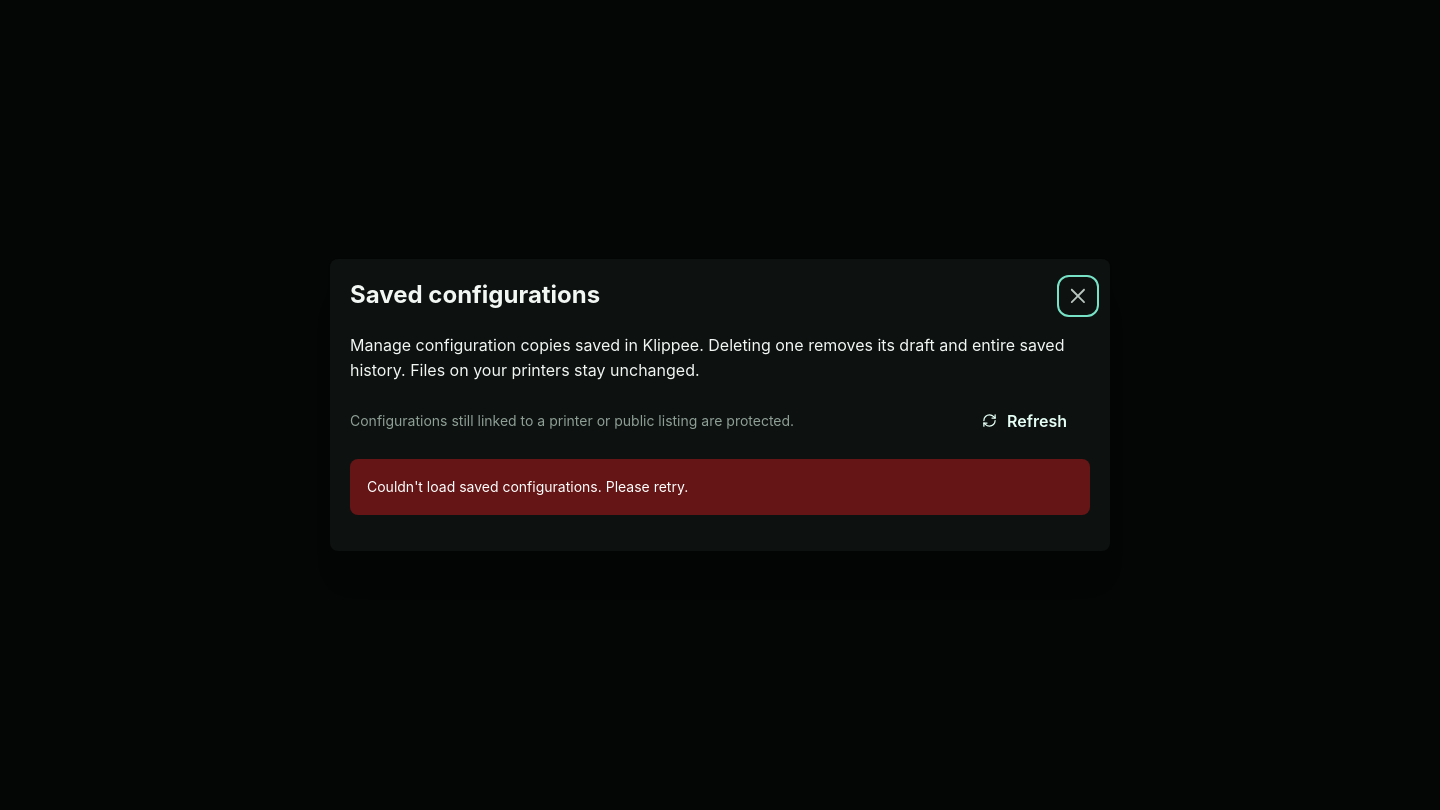
Scenario: saved configurations › allows retry after a failed list request
expect the message shows "Couldn't load saved configurations": met, box 367,478 -> 688,495
Click the button "Refresh" at [1028, 421], box 966,399 -> 1090,443
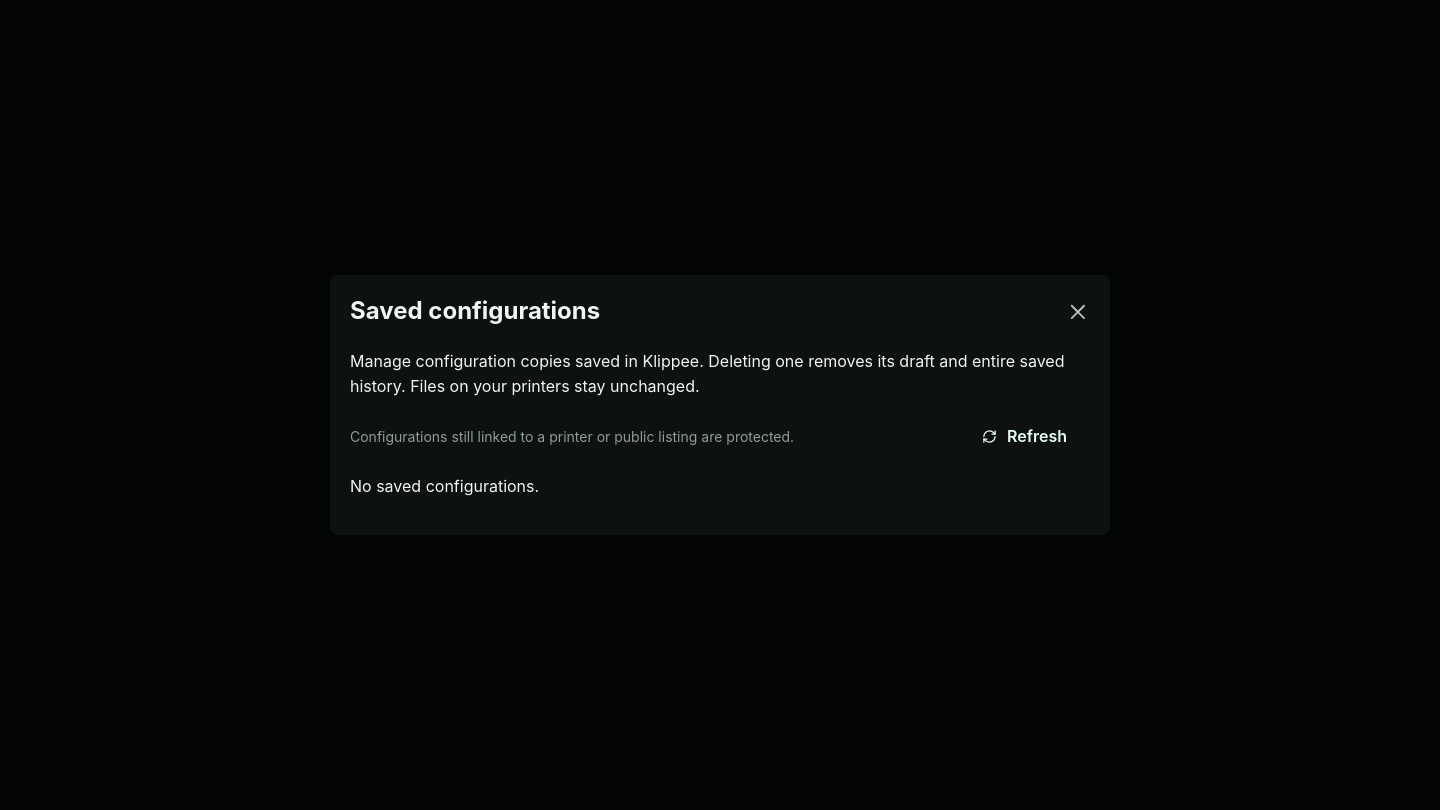
expect the text "No saved configurations." is shown: met, box 350,476 -> 539,496
expect the message "Couldn't load saved configurations. Please retry." is gone: met
